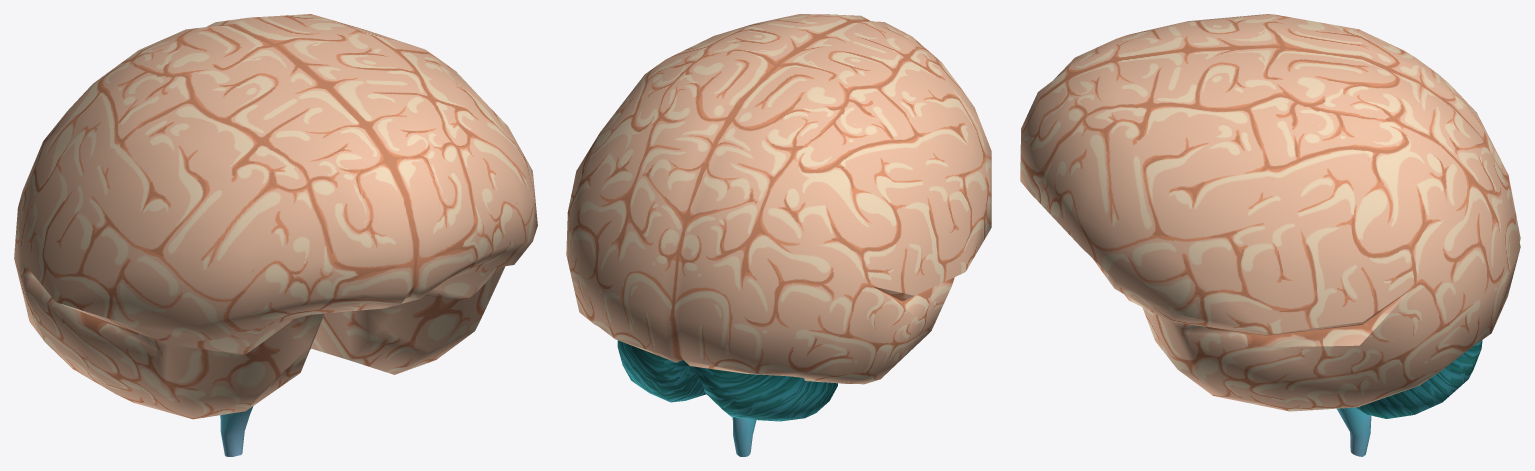
File: Brain03.fbx
3 renders of one model, left to right at view 1: azimuth 30°, elevation 25°; view 2: azimuth 150°, elevation 25°; view 3: azimuth 270°, elevation 25°, orthographic. The views are drawn at different scales.
Visible parts, largest first — view 1: Brain03; view 2: Brain03; view 3: Brain03.
Boxes of the visible parts, box(x1,y1,x2,y2) form: Brain03: box(14, 14, 537, 456); Brain03: box(566, 14, 991, 456); Brain03: box(1020, 14, 1520, 456).
Size of the model in its own units: 159 by 150 by 166.
